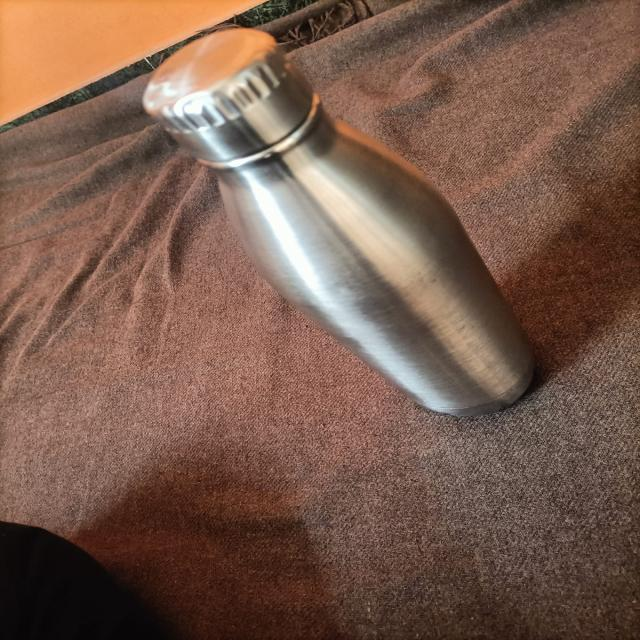bottle: (186, 47, 559, 468)
